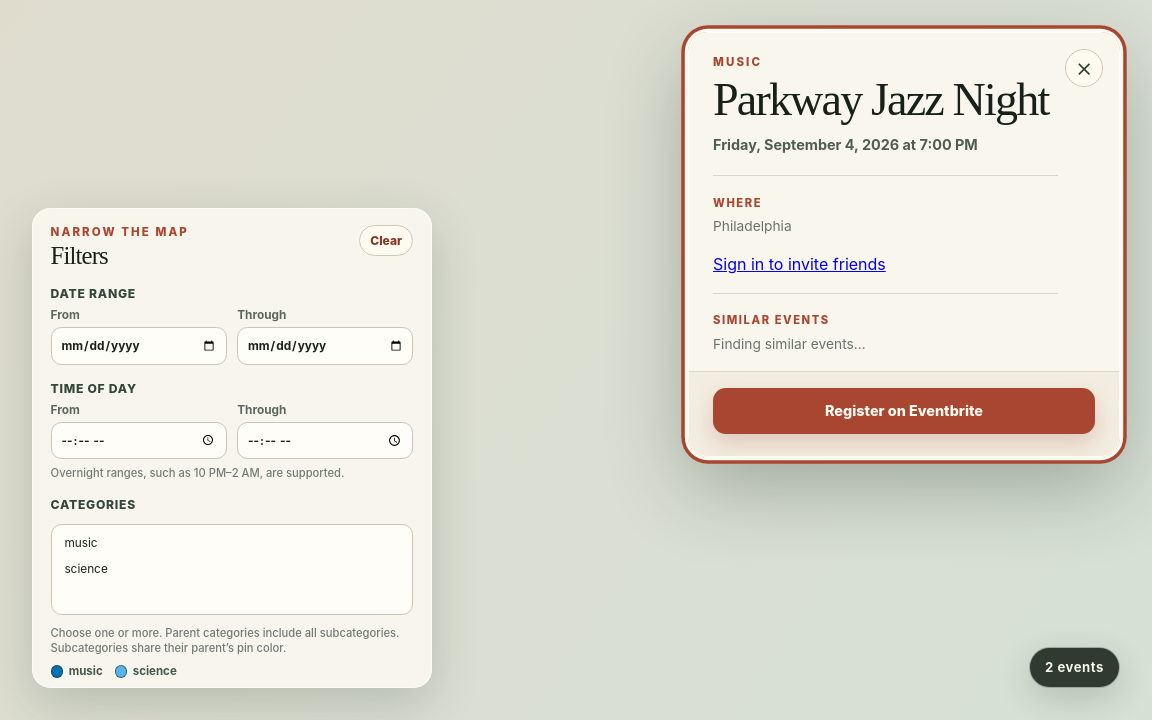
EventMap › opens an accessible detail slide-over with the source registration link
Check: the dialog "Parkway Jazz Night" is shown, box 688,32 -> 1120,457
Click the button named "Close details": (1084, 68) 1065,49 -> 1103,87
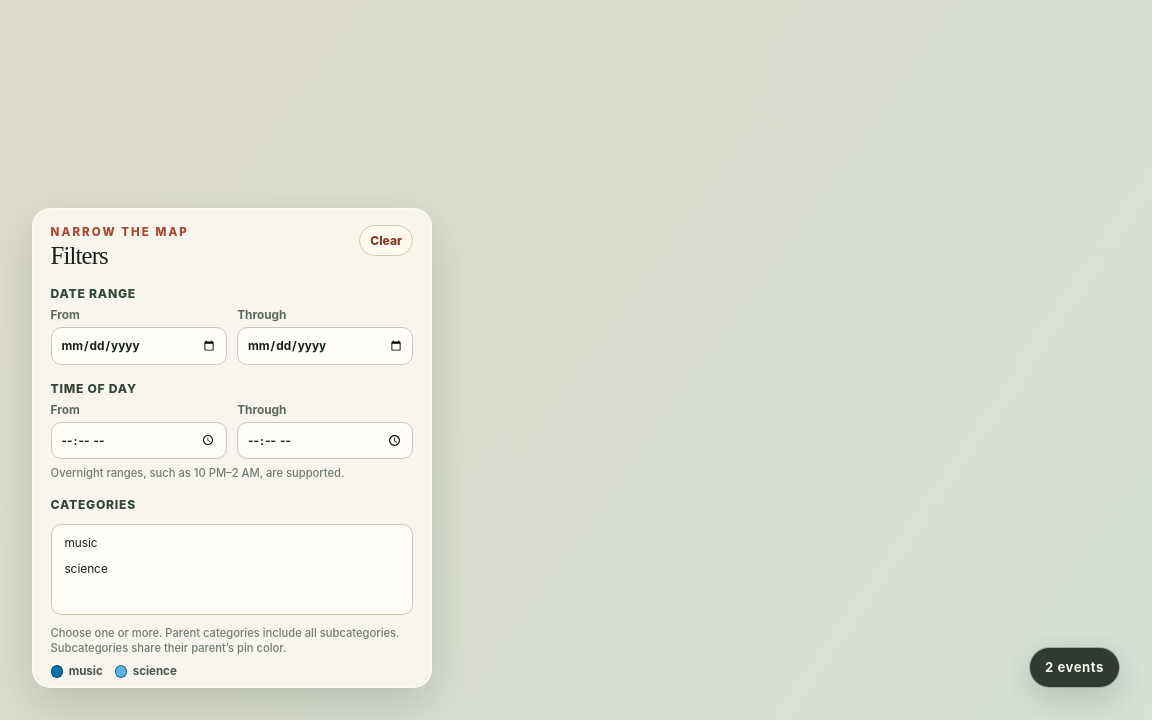
Check: the dialog is gone
